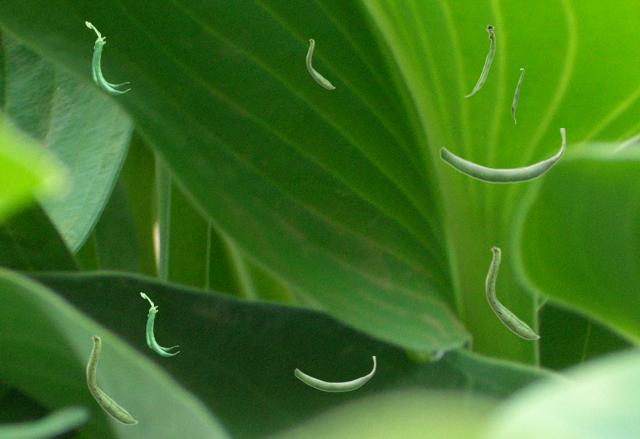french_bean: (439, 128, 565, 183), (485, 245, 539, 339), (86, 334, 137, 424), (85, 21, 129, 93), (294, 356, 375, 391), (140, 292, 178, 355), (464, 24, 494, 96), (306, 38, 334, 88), (511, 68, 523, 123)
